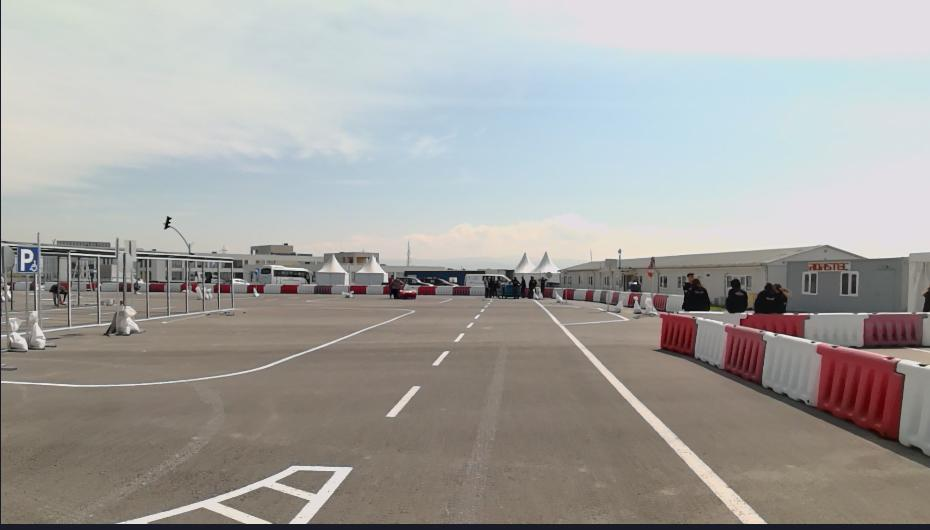nesne: (0, 296, 769, 526), (121, 299, 770, 523), (1, 295, 492, 524), (534, 302, 766, 527), (658, 312, 930, 461), (1, 309, 410, 386), (28, 236, 236, 330), (120, 467, 350, 527), (813, 337, 901, 437), (759, 328, 820, 402), (896, 362, 928, 454), (724, 325, 764, 384), (866, 309, 926, 348), (691, 319, 731, 372), (807, 312, 867, 346), (232, 281, 384, 294), (548, 300, 625, 324), (743, 314, 808, 340), (549, 302, 627, 323), (662, 314, 696, 357), (681, 307, 747, 325), (755, 280, 789, 314), (105, 305, 140, 336), (385, 384, 421, 414), (682, 271, 709, 310), (258, 264, 311, 283), (725, 275, 749, 313), (9, 318, 30, 352), (16, 245, 39, 272), (30, 310, 45, 349), (94, 253, 102, 325), (170, 225, 191, 251), (0, 243, 16, 277), (480, 273, 501, 298), (66, 248, 71, 327), (144, 255, 150, 320), (122, 252, 129, 304), (524, 272, 537, 298), (664, 293, 683, 310), (166, 254, 171, 316), (399, 280, 418, 296), (123, 236, 138, 256), (184, 256, 189, 314), (432, 348, 449, 365), (4, 275, 8, 346), (200, 257, 205, 313), (388, 273, 400, 296), (500, 272, 511, 297), (33, 272, 41, 306), (650, 293, 665, 310), (230, 259, 235, 308), (328, 283, 349, 294), (448, 284, 469, 295), (297, 282, 314, 295), (539, 274, 548, 298), (262, 283, 281, 294), (510, 275, 519, 298), (419, 284, 436, 296), (627, 293, 641, 307), (279, 284, 298, 294), (434, 284, 453, 294), (246, 283, 264, 293), (348, 285, 366, 295), (468, 284, 483, 296), (313, 284, 330, 294), (618, 290, 628, 307), (562, 288, 575, 301), (573, 286, 586, 299), (364, 285, 382, 294), (520, 272, 526, 298), (233, 283, 247, 294), (644, 297, 655, 311), (550, 286, 562, 298), (26, 272, 28, 342), (599, 288, 608, 303), (632, 297, 641, 312), (163, 215, 172, 230), (591, 289, 601, 301), (583, 288, 592, 301), (606, 289, 613, 305), (612, 290, 619, 306), (217, 256, 219, 311), (545, 286, 552, 298), (380, 284, 388, 294)
